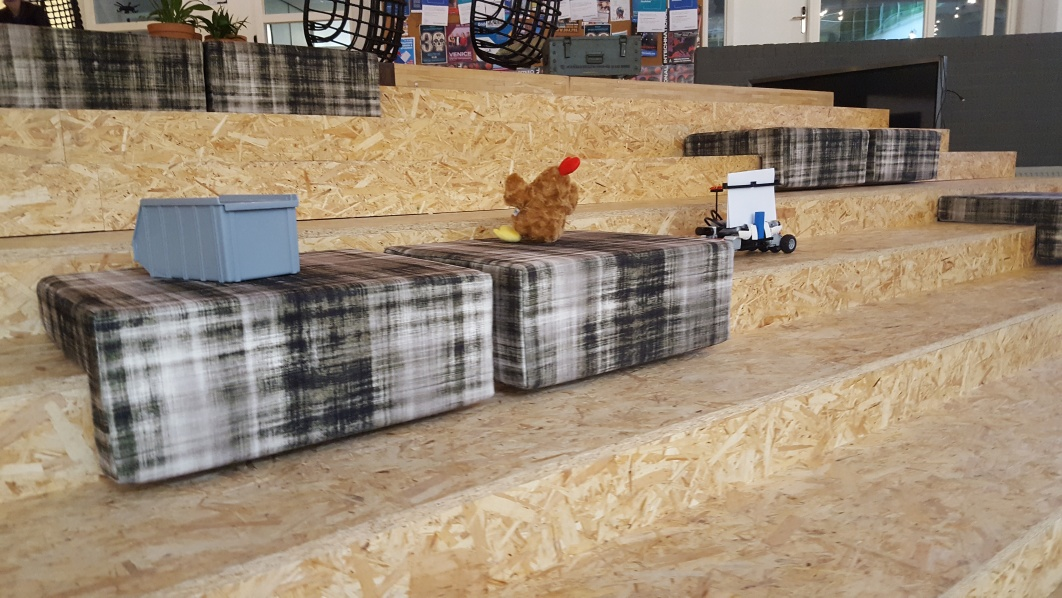beam: (749, 211, 767, 238)
chicken: (498, 154, 584, 243)
tray: (128, 191, 306, 282)
